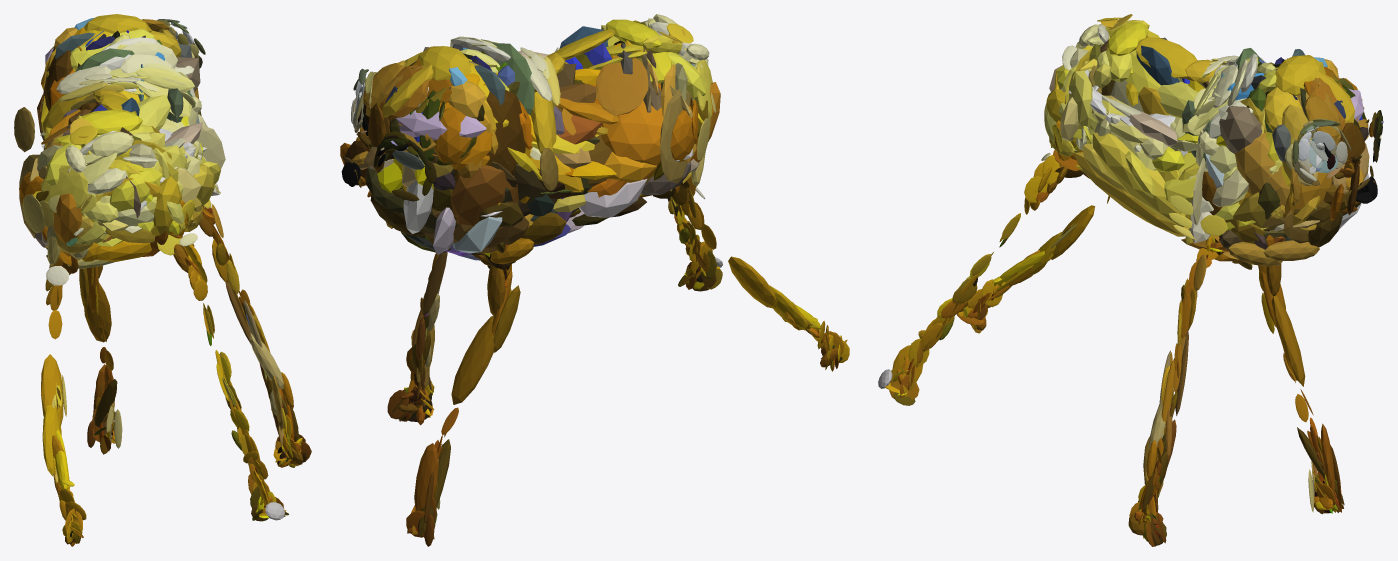
3 renders of one model, left to right at view 1: azimuth 30°, elevation 25°; view 2: azimuth 150°, elevation 25°; view 3: azimuth 270°, elevation 25°, orthographic. The views are drawn at different scales.
Parts seen in each view (by area): view 1: world; view 2: world; view 3: world.
Boxes of the visible parts, x1,y1,x2,y2 form: world: (14, 14, 311, 546); world: (340, 14, 849, 546); world: (878, 14, 1383, 546).
Size of the model in its own units: 0.5151 by 0.6574 by 0.6638.
